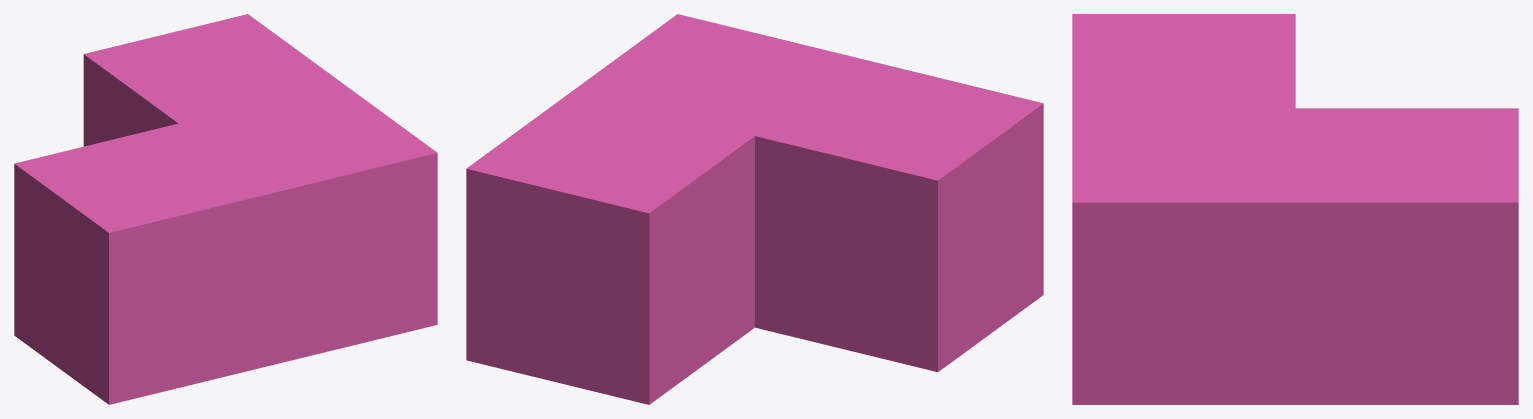
File: upgradePlaceholderBlock3L.glb
3 views of the same model, side by side, from view 1: azimuth 30°, elevation 25°; view 2: azimuth 150°, elevation 25°; view 3: azimuth 270°, elevation 25° (orthographic). The views are drawn at different scales.
Visible parts, largest first — view 1: Upgrade Placeholder Block Size 3 L; view 2: Upgrade Placeholder Block Size 3 L; view 3: Upgrade Placeholder Block Size 3 L.
Boxes of the visible parts, x1,y1,x2,y2 form: Upgrade Placeholder Block Size 3 L: (14,14,437,404); Upgrade Placeholder Block Size 3 L: (466,14,1043,404); Upgrade Placeholder Block Size 3 L: (1072,14,1518,404).
Size of the model in its own units: 4 by 2 by 4.
